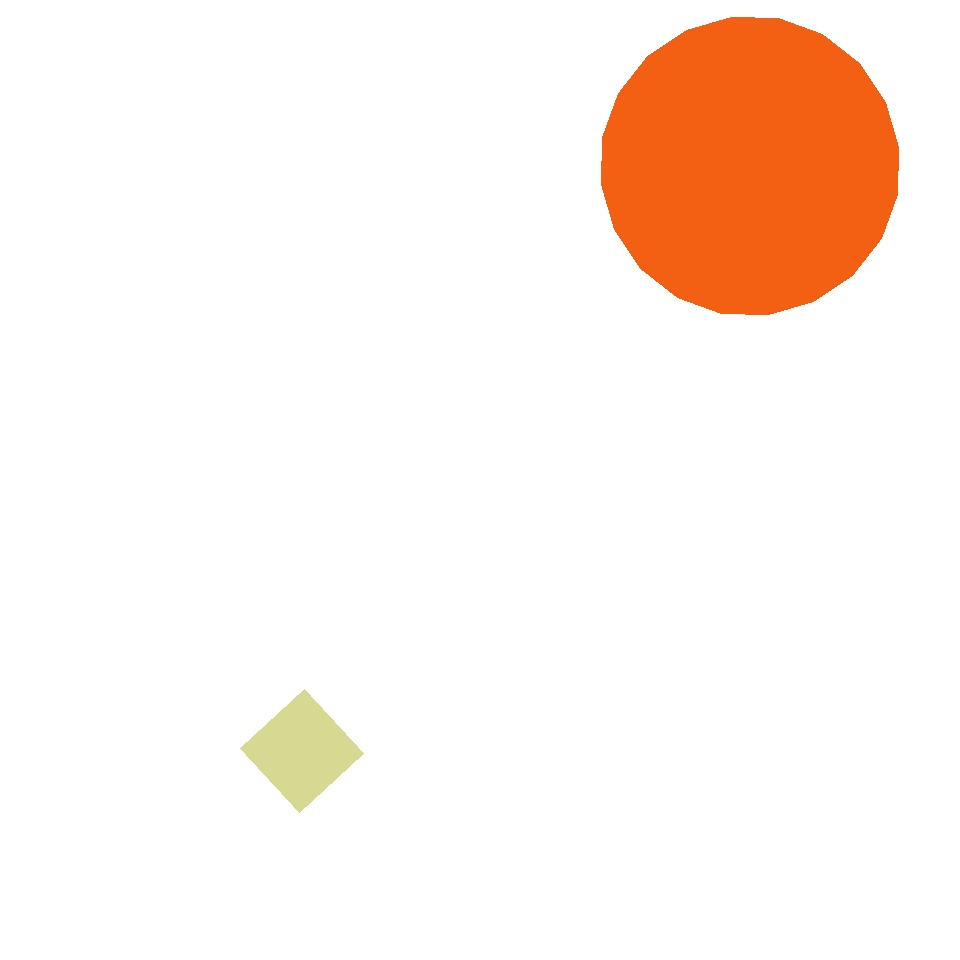square: (370, 638, 574, 842), (240, 690, 364, 813)
triangle: (407, 298, 744, 634), (602, 17, 898, 314)
